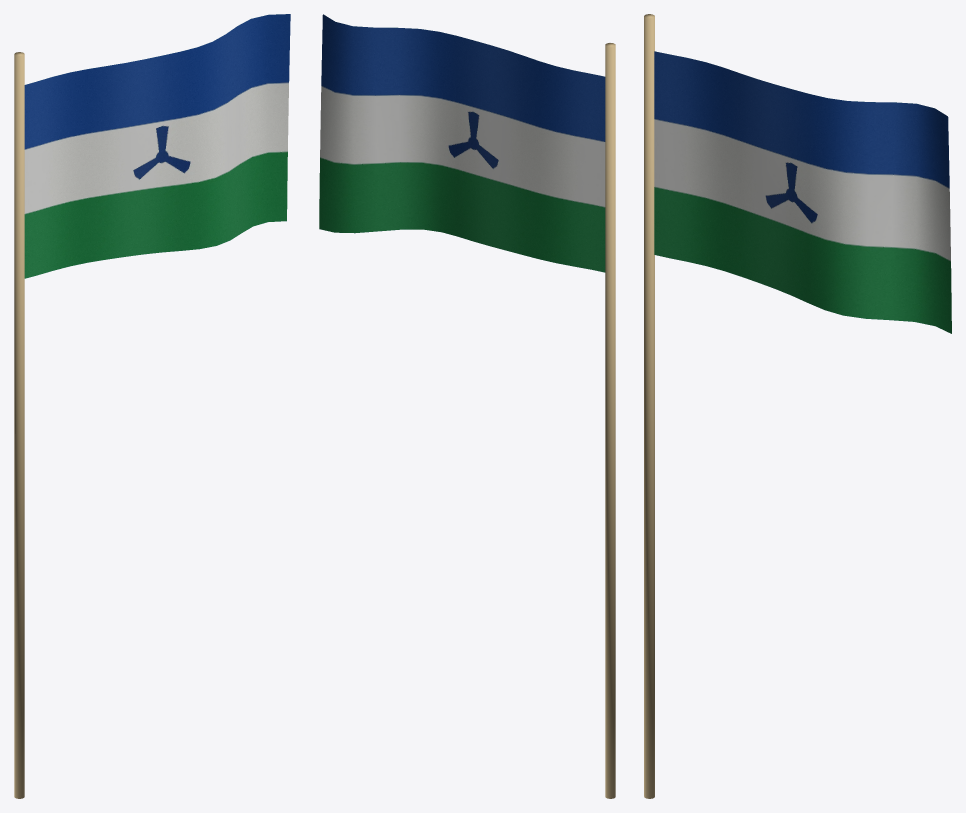
File: flag-opp.glb
The picture shows the model from 3 angles, left to right: view 1: azimuth 30°, elevation 25°; view 2: azimuth 150°, elevation 25°; view 3: azimuth 330°, elevation 25°; orthographic projection. The views are drawn at different scales.
Parts seen in each view (by area): view 1: Flag opp / Flag opp, Flag opp / Bamboo pole; view 2: Flag opp / Flag opp, Flag opp / Bamboo pole; view 3: Flag opp / Flag opp, Flag opp / Bamboo pole.
Part boxes in pixels (x1,y1,x2,y2): Flag opp / Flag opp: (24,14,290,278); Flag opp / Bamboo pole: (14,52,24,798); Flag opp / Flag opp: (319,14,605,272); Flag opp / Bamboo pole: (605,43,615,798); Flag opp / Flag opp: (654,51,951,333); Flag opp / Bamboo pole: (644,14,654,798).
Size of the model in its own units: 0.9143 by 2.3 by 0.1061.
Materials: 2 (1 with a texture image).
